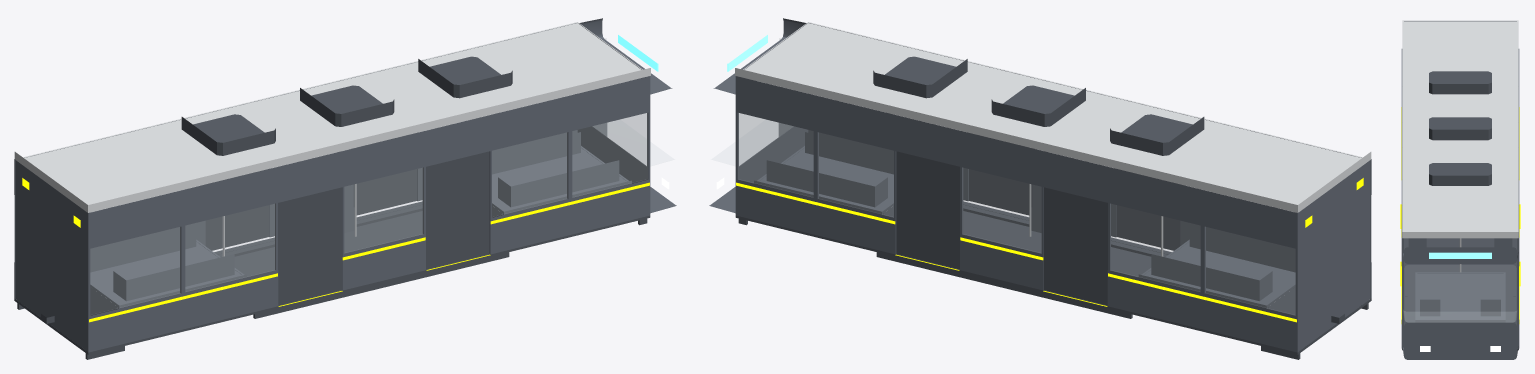
The model's file is ext_tram_car_body_03.glb.
3 renders of one model, left to right at view 1: azimuth 30°, elevation 25°; view 2: azimuth 150°, elevation 25°; view 3: azimuth 270°, elevation 25°, orthographic. The views are drawn at different scales.
Parts seen in each view (by area): view 1: Roof, Side_Glass, Wall, Lower_Wall, End_Wall, Seats, Roof_Pods, Door_L_02, Door_L_01, Wheel_Housing, Underframe, Cab_Nose (+5 smaller); view 2: Roof, Side_Glass, Wall, Lower_Wall, End_Wall, Seats, Roof_Pods, Door_R_02, Door_R_01, Wheel_Housing, Underframe, Cab_Nose (+5 smaller); view 3: Roof, Cab_Glass, Cab_Nose, Roof_Pods, Underframe, Wheel_Housing, Seats, Wall, Destination_Screen, Livery_Stripe, Door_Sills, Lower_Wall (+2 smaller).
Part boxes in pixels (box(x1,y1,x2,y2)): Roof: box(14, 22, 650, 212); Side_Glass: box(90, 113, 647, 314); Wall: box(14, 23, 650, 316); Lower_Wall: box(14, 130, 650, 352); End_Wall: box(16, 160, 86, 350); Seats: box(90, 132, 619, 301); Roof_Pods: box(181, 56, 512, 155); Door_L_02: box(426, 151, 489, 269); Door_L_01: box(278, 187, 341, 305); Wheel_Housing: box(90, 146, 631, 315); Underframe: box(14, 201, 650, 354); Cab_Nose: box(577, 18, 676, 213); Roof: box(735, 22, 1371, 212); Side_Glass: box(738, 113, 1295, 314); Wall: box(735, 23, 1371, 316); Lower_Wall: box(735, 130, 1371, 352); End_Wall: box(1299, 160, 1369, 350); Seats: box(766, 132, 1295, 301); Roof_Pods: box(873, 56, 1204, 155); Door_R_02: box(896, 151, 959, 269); Door_R_01: box(1044, 187, 1107, 305); Wheel_Housing: box(754, 146, 1295, 315); Underframe: box(735, 201, 1371, 354); Cab_Nose: box(709, 18, 808, 213); Roof: box(1402, 20, 1518, 238); Cab_Glass: box(1403, 265, 1517, 322); Cab_Nose: box(1402, 247, 1518, 359); Roof_Pods: box(1429, 71, 1491, 185); Underframe: box(1402, 238, 1518, 350); Wheel_Housing: box(1415, 272, 1505, 322); Seats: box(1408, 238, 1512, 316); Wall: box(1401, 49, 1519, 319); Destination_Screen: box(1429, 252, 1491, 258); Livery_Stripe: box(1401, 107, 1519, 323); Door_Sills: box(1400, 204, 1520, 286); Lower_Wall: box(1401, 319, 1519, 348).
Size of the model in its own units: 12.16 by 3.28 by 2.66.
